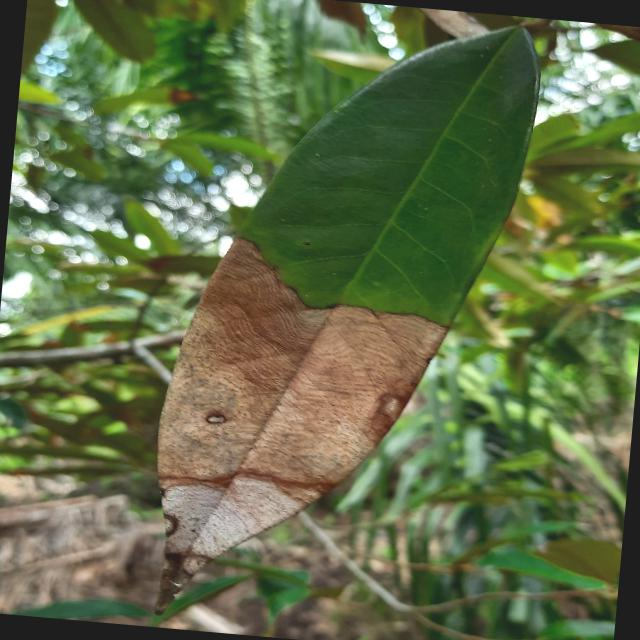Leaf Blight: (131, 0, 553, 639)
